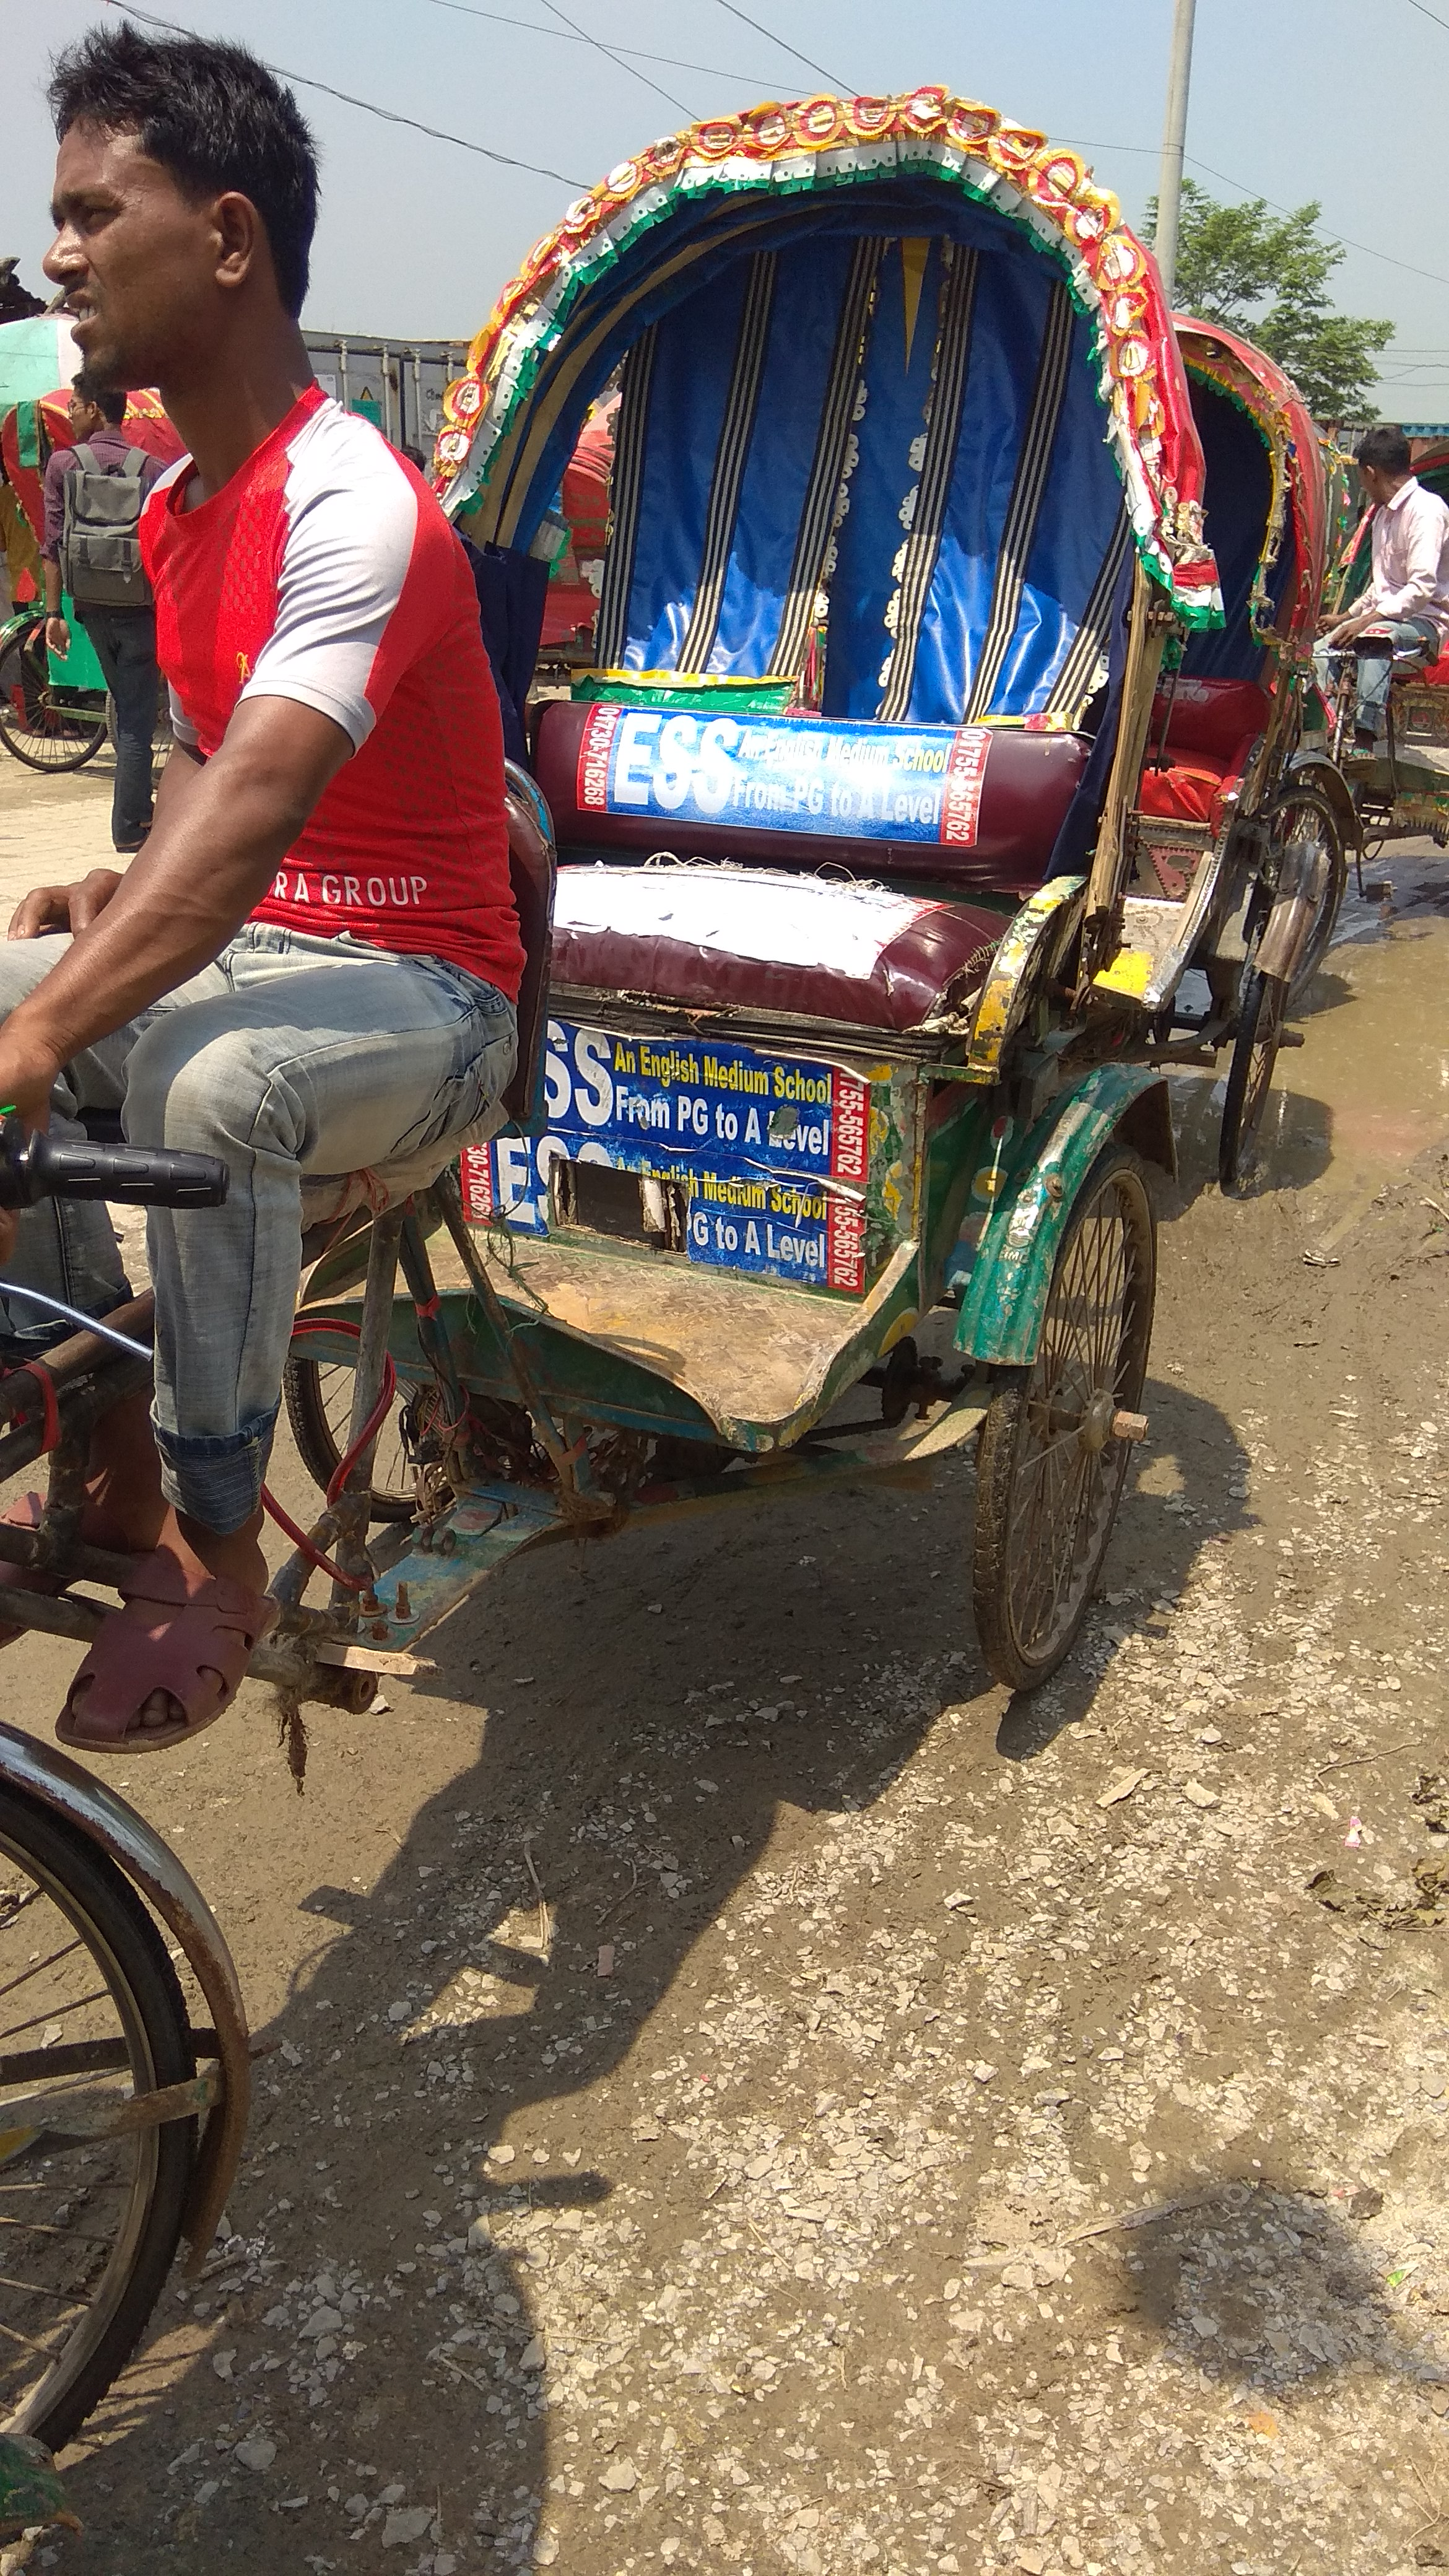Rickshaw: (230, 21, 1178, 1706), (1086, 212, 1339, 1169), (9, 349, 198, 741), (1323, 372, 1447, 823)
